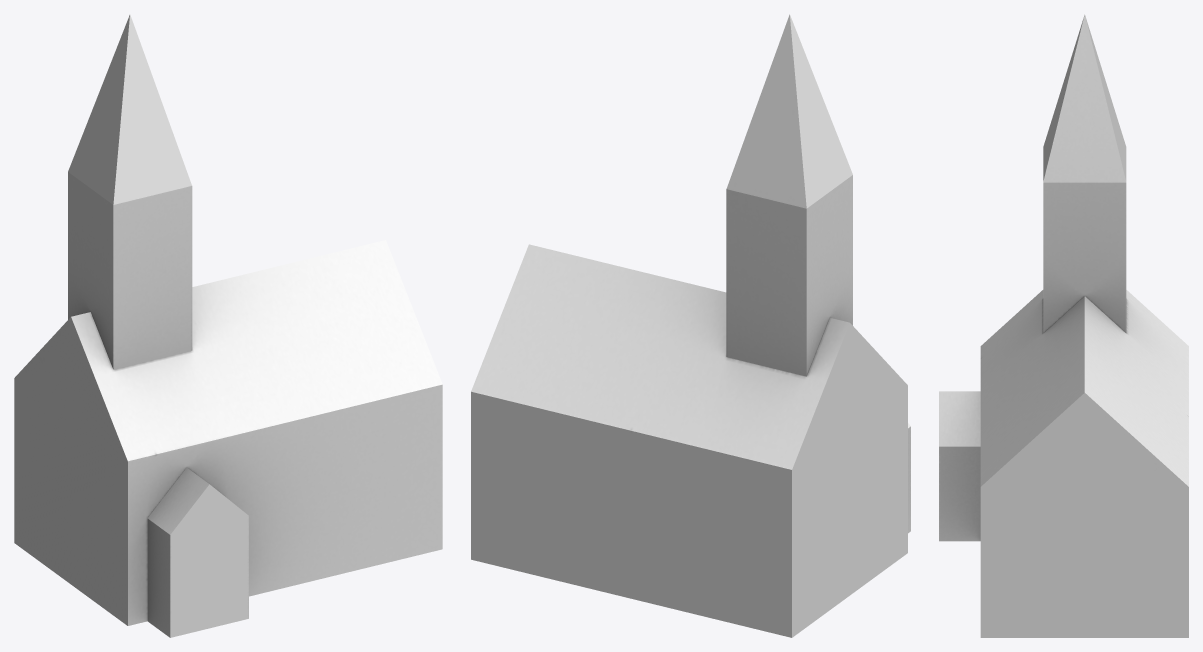
Rendered from Church.FBX.
3 renders of one model, left to right at view 1: azimuth 30°, elevation 25°; view 2: azimuth 150°, elevation 25°; view 3: azimuth 270°, elevation 25°, orthographic. The views are drawn at different scales.
Parts seen in each view (by area): view 1: m_Church; view 2: m_Church; view 3: m_Church.
Part boxes in pixels (x1,y1,x2,y2): m_Church: (14, 14, 442, 637); m_Church: (471, 14, 910, 637); m_Church: (939, 14, 1188, 637).
Size of the model in its own units: 800 by 600 by 1350.
